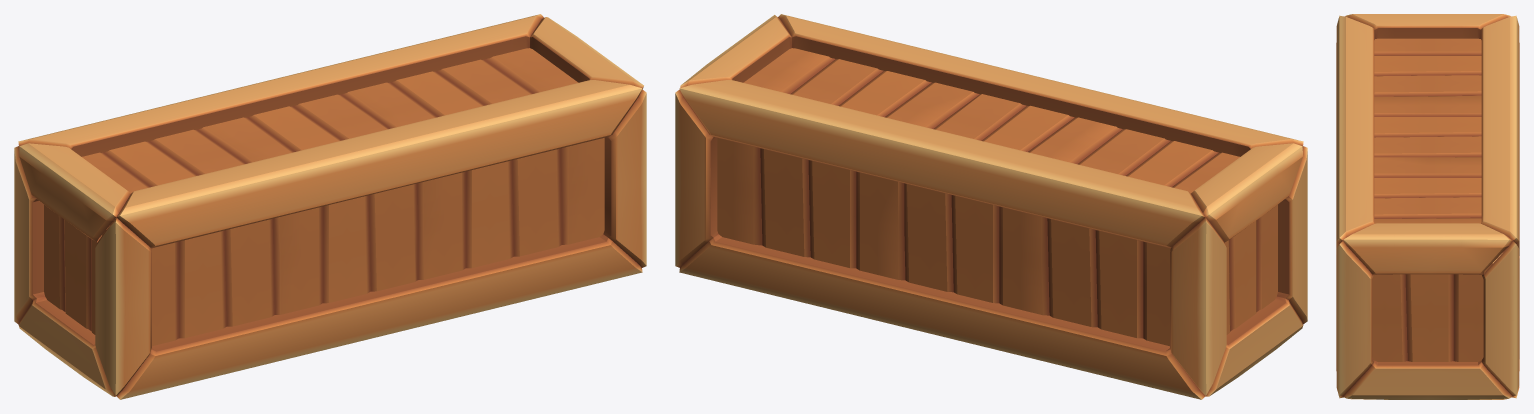
File: Wood_Box_3.fbx
The picture shows the model from 3 angles, left to right: view 1: azimuth 30°, elevation 25°; view 2: azimuth 150°, elevation 25°; view 3: azimuth 270°, elevation 25°; orthographic projection. The views are drawn at different scales.
Visible parts, largest first — view 1: mdl_Median_Box_1x1_01_1_5_3_4; view 2: mdl_Median_Box_1x1_01_1_5_3_4; view 3: mdl_Median_Box_1x1_01_1_5_3_4.
Boxes of the visible parts, <box> form: mdl_Median_Box_1x1_01_1_5_3_4: <box>14,14,646,399</box>; mdl_Median_Box_1x1_01_1_5_3_4: <box>675,14,1307,399</box>; mdl_Median_Box_1x1_01_1_5_3_4: <box>1336,14,1519,399</box>.
Size of the model in its own units: 295 by 100 by 100.
1 material, 1 textured.
